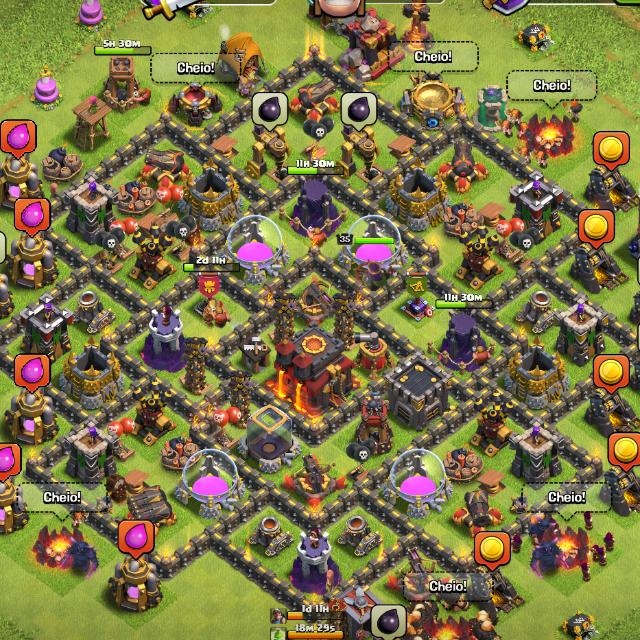ElixirNegro: (251, 91, 290, 132), (340, 91, 378, 131), (371, 603, 407, 640)
FullCoin: (593, 130, 631, 172), (593, 354, 630, 395), (578, 210, 615, 250), (474, 532, 511, 572), (607, 431, 640, 473)
FullElixir: (118, 519, 156, 561), (13, 352, 51, 393), (1, 119, 36, 161), (15, 198, 51, 238), (0, 442, 22, 486)
